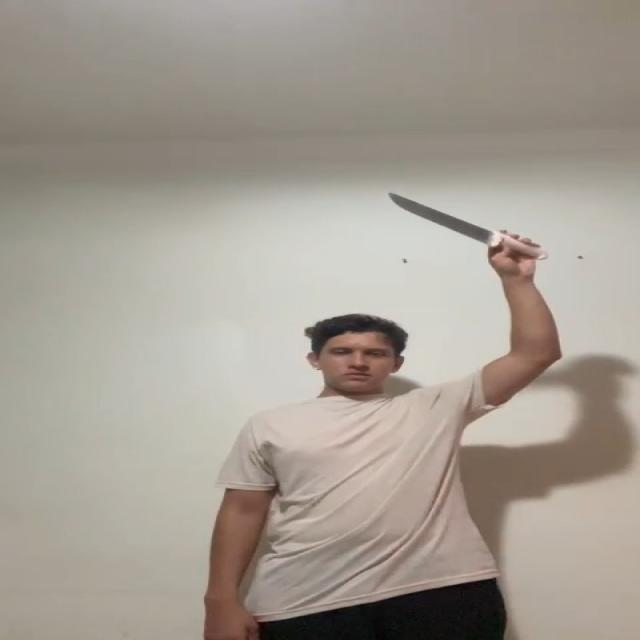knife: (393, 193, 489, 240)
